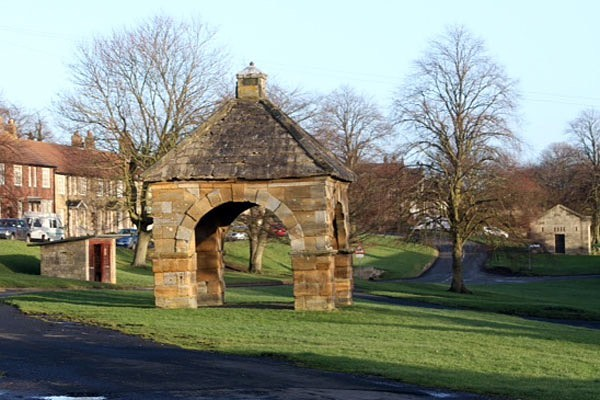building: (159, 84, 357, 315), (50, 147, 142, 234), (1, 128, 48, 233), (533, 202, 594, 259)
grass: (145, 300, 600, 400)
sky: (1, 1, 600, 95)
tree: (68, 18, 232, 299), (390, 25, 531, 289)
